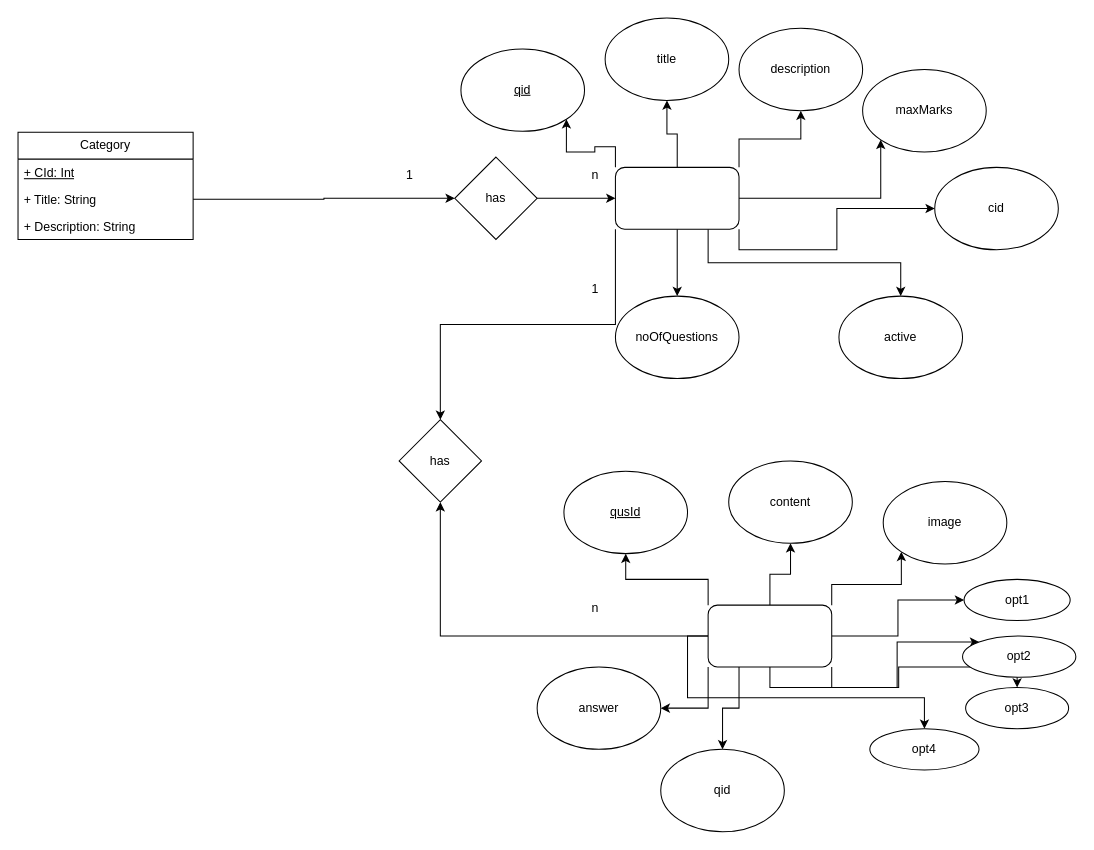
Some shapes in this 1094 by 850 pixel diagram are drawn without their labels. Each missing label, with the centre of its shape:
"Questions" belongs at pixel 769 635.
"Quiz" belongs at pixel 676 197.
